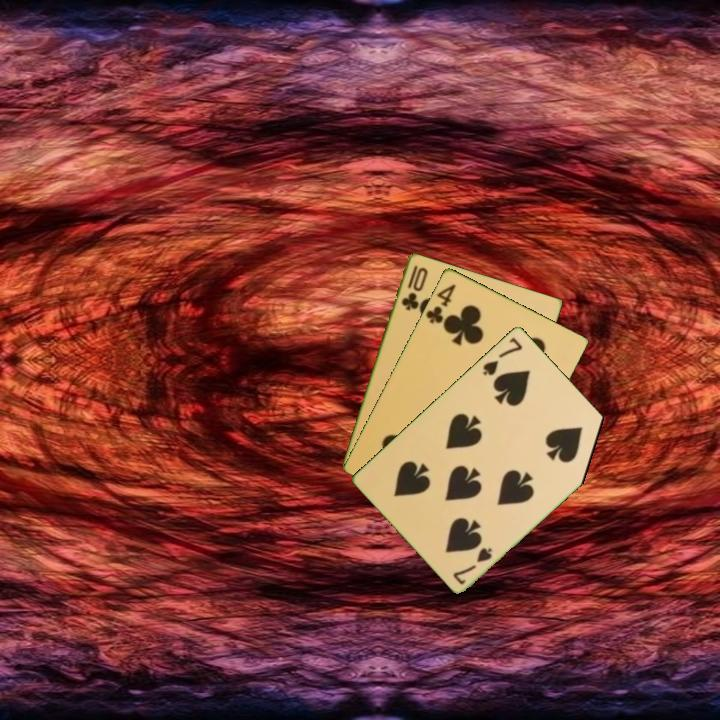10c: (397, 261, 430, 313)
4c: (422, 280, 458, 326)
7s: (479, 333, 525, 378), (449, 543, 495, 587)
